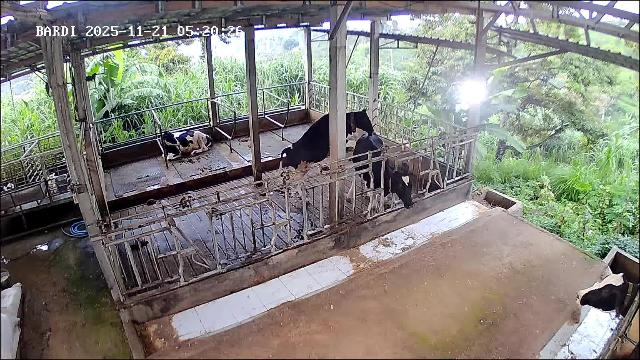mounting: (280, 109, 374, 203)
